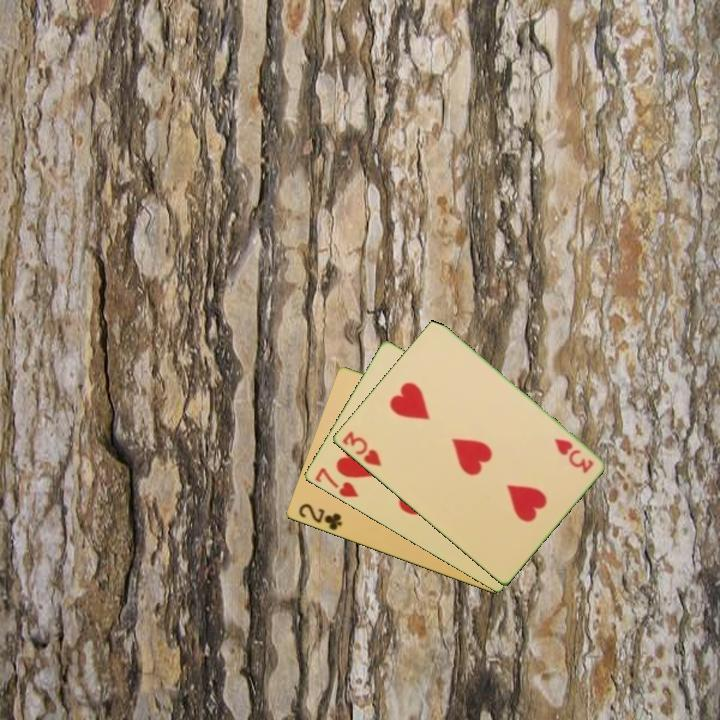2c: (295, 500, 345, 533)
3h: (338, 427, 384, 469), (550, 435, 596, 477)
7h: (311, 464, 361, 501)
